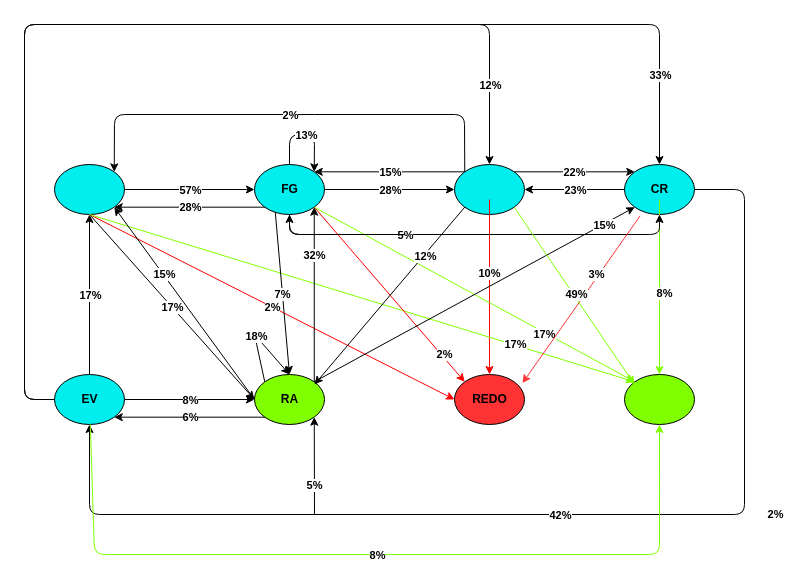
This 800x580 diagram has some shape labels left out. Here are the shapes that lost their labels. From the top down, the centre of each, then its label:
At point (89, 189): "UP".
At point (489, 189): "GS".
At point (659, 399): "RADO".
